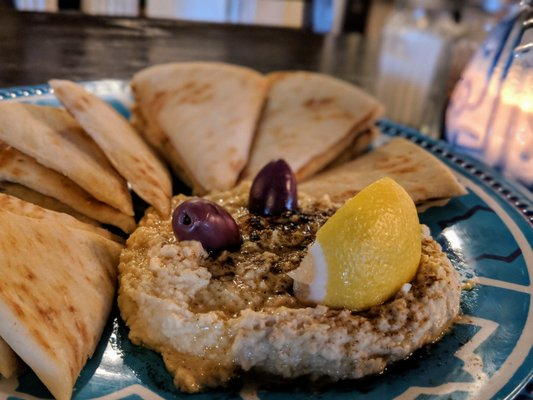soup: (0, 192, 124, 399)
